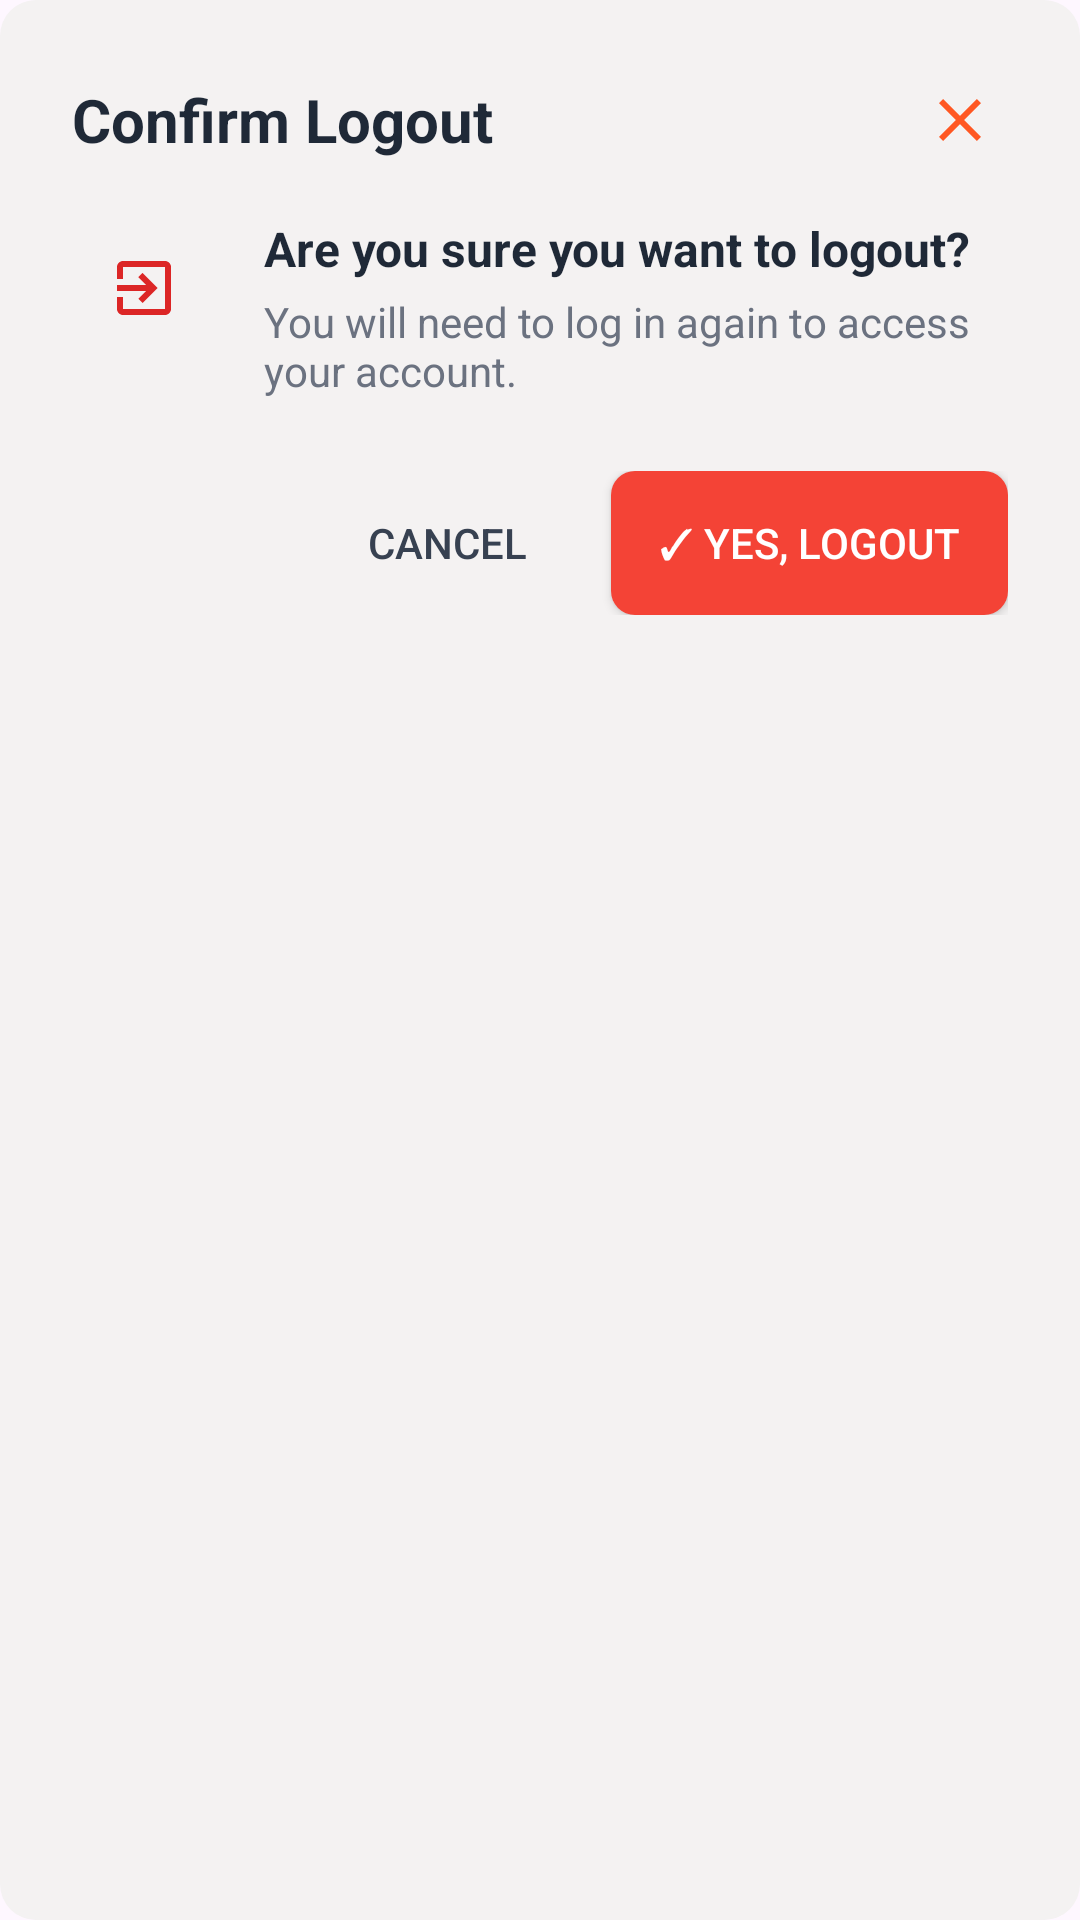

Screen size 1080 × 1920. Icon name, then its center in pixels as point (x, y):
close: point (960, 120)
